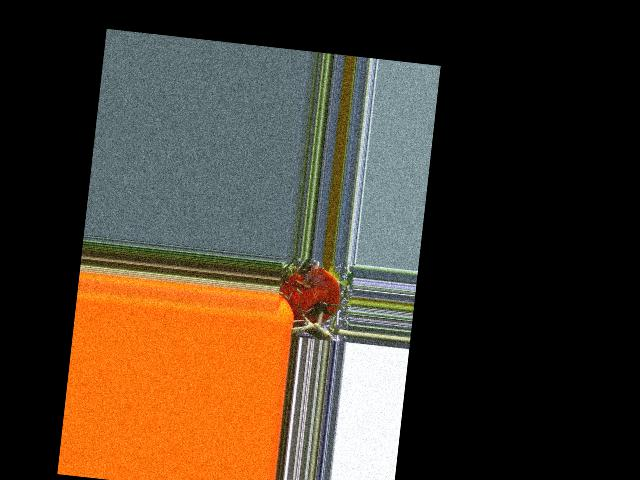tomato: (277, 262, 343, 326)
